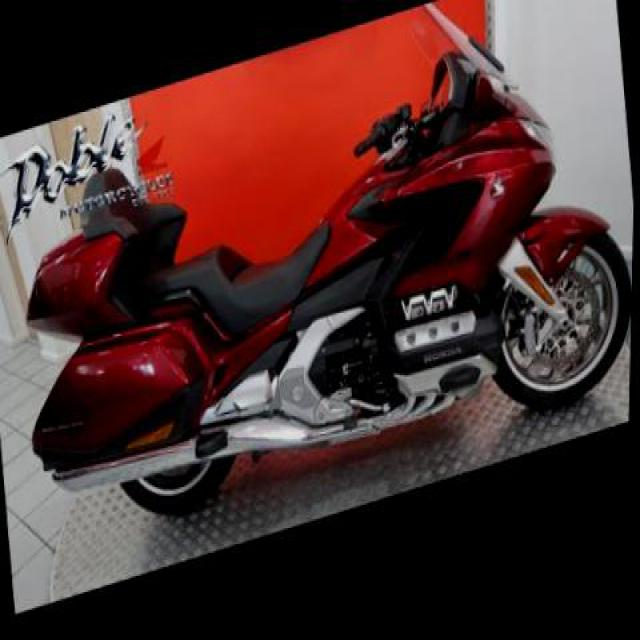Gold Wing: (1, 0, 638, 574)
